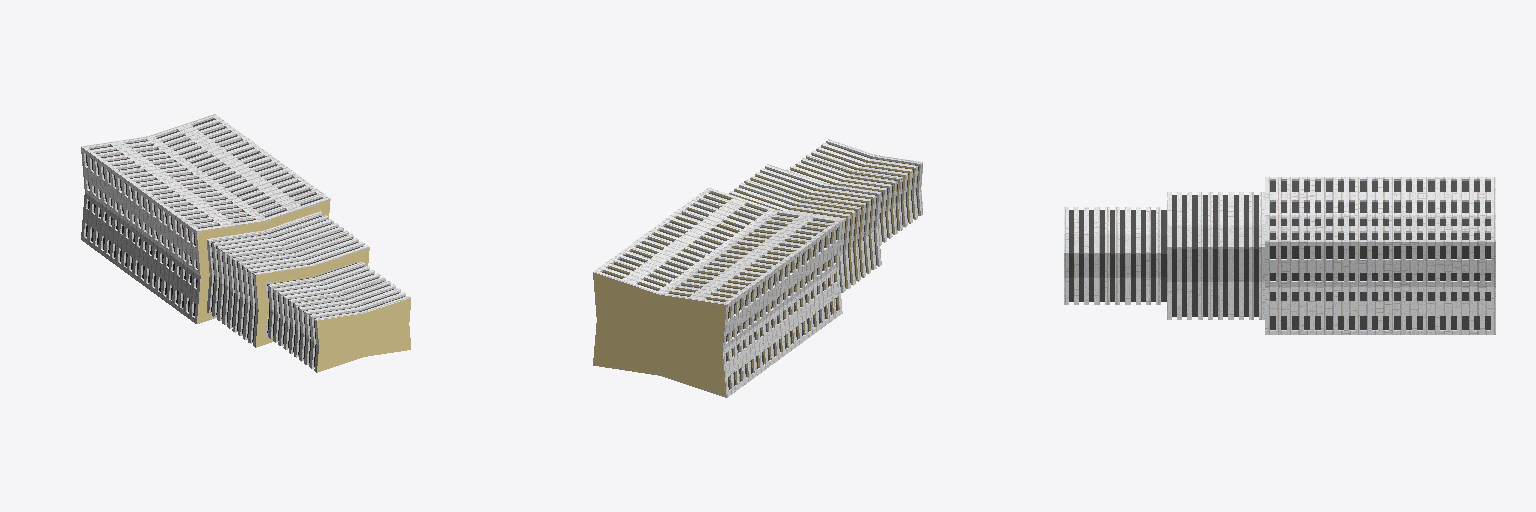
3 views of the same model, side by side, from view 1: azimuth 30°, elevation 25°; view 2: azimuth 150°, elevation 25°; view 3: azimuth 270°, elevation 25° (orthographic).
Visible parts, largest first — view 1: Wall_01, Wall_04, Slab_01, Wall_03, Wall_02, Glass_01, Glass_02; view 2: Slab_01, Wall_01, Wall_03, Wall_02, Wall_04, Glass_01, Glass_02; view 3: Wall_01, Glass_02, Glass_01, Wall_03, Wall_02.
Boxes of the visible parts, x1=… form: Wall_01: x1=81, y1=115, x2=410, y2=372; Wall_04: x1=84, y1=117, x2=405, y2=368; Slab_01: x1=197, y1=199, x2=410, y2=372; Wall_03: x1=82, y1=125, x2=300, y2=304; Wall_02: x1=81, y1=114, x2=329, y2=321; Glass_01: x1=86, y1=119, x2=321, y2=315; Glass_02: x1=211, y1=216, x2=404, y2=366; Slab_01: x1=593, y1=146, x2=915, y2=397; Wall_01: x1=598, y1=139, x2=922, y2=396; Wall_03: x1=623, y1=198, x2=840, y2=377; Wall_02: x1=594, y1=188, x2=841, y2=397; Wall_04: x1=593, y1=141, x2=920, y2=397; Glass_01: x1=602, y1=193, x2=837, y2=389; Glass_02: x1=736, y1=144, x2=918, y2=286; Wall_01: x1=1064, y1=179, x2=1495, y2=330; Glass_02: x1=1069, y1=195, x2=1258, y2=316; Glass_01: x1=1270, y1=181, x2=1490, y2=329; Wall_03: x1=1265, y1=192, x2=1495, y2=315; Wall_02: x1=1265, y1=177, x2=1495, y2=334.
Size of the model in its own units: 1636 by 1091 by 4582.
Materials: 3 (1 with a texture image).